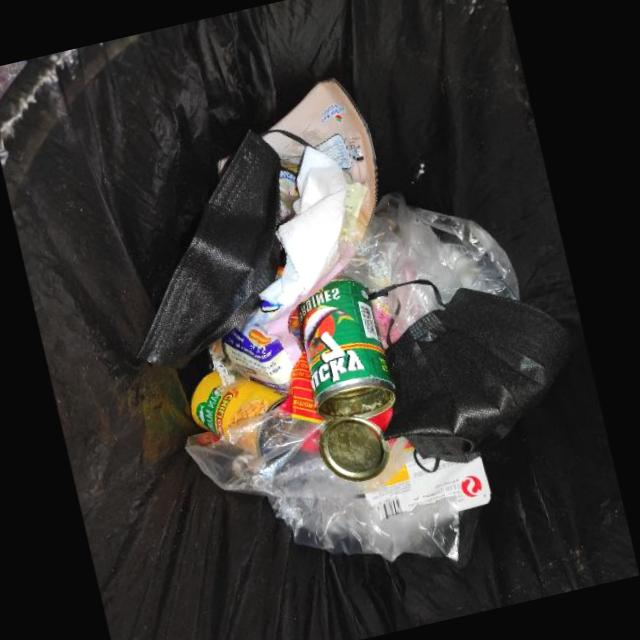bao_bi_thuc_pham: (210, 77, 377, 421), (364, 451, 491, 521)
giay: (258, 145, 346, 305)
khau_trang: (136, 130, 281, 370), (382, 287, 574, 464)
nhom: (298, 279, 395, 480), (190, 370, 288, 454)
tui_ni_long: (332, 191, 521, 349), (184, 352, 364, 497), (267, 495, 459, 562)
